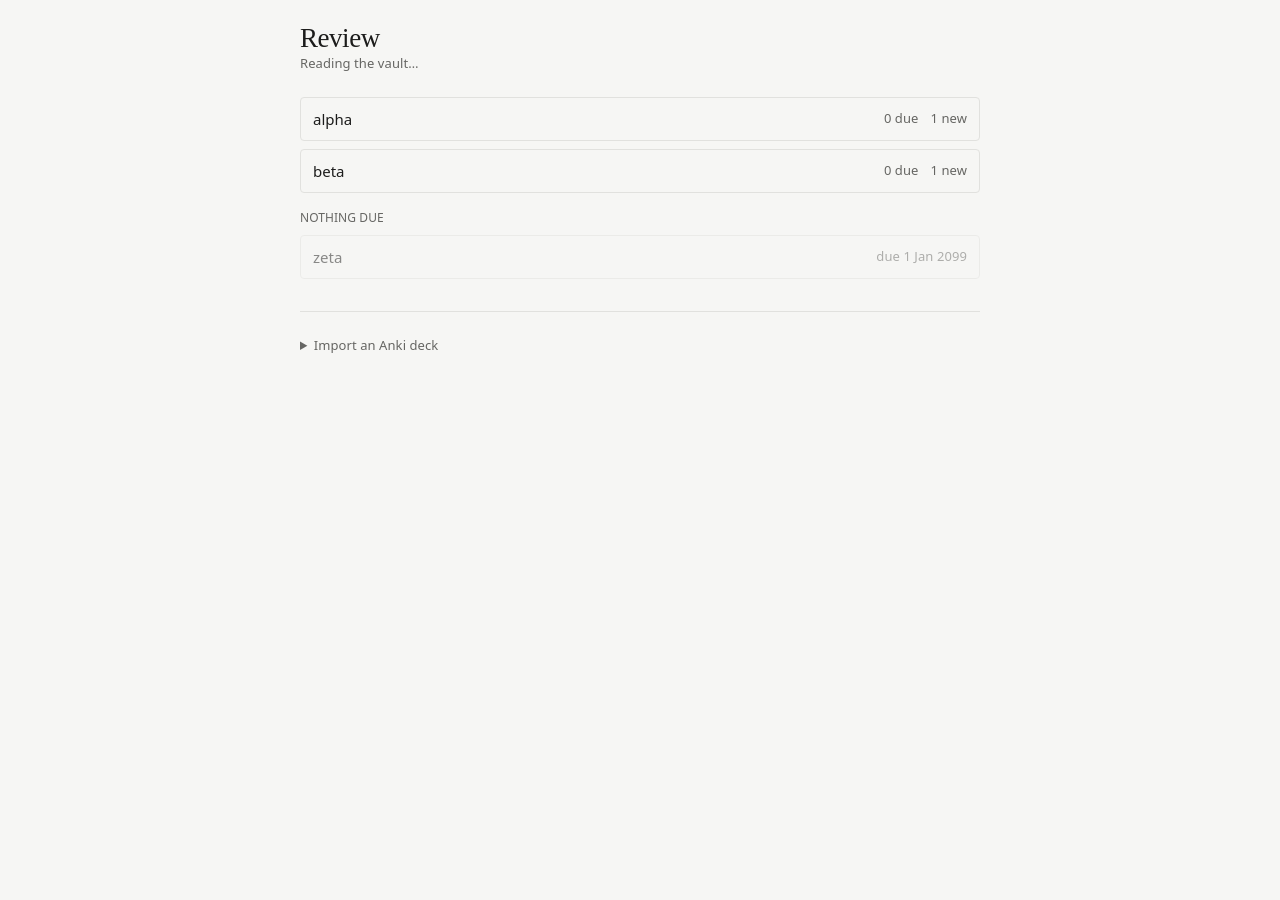
Test: #790 R8 Enter after a click on Park this card reveals the next card and writes nothing more
Check: the button "alpha 0 due 1 new" is shown, box [300, 97, 980, 141]
Step 1. Press j in the element labelled "Review"
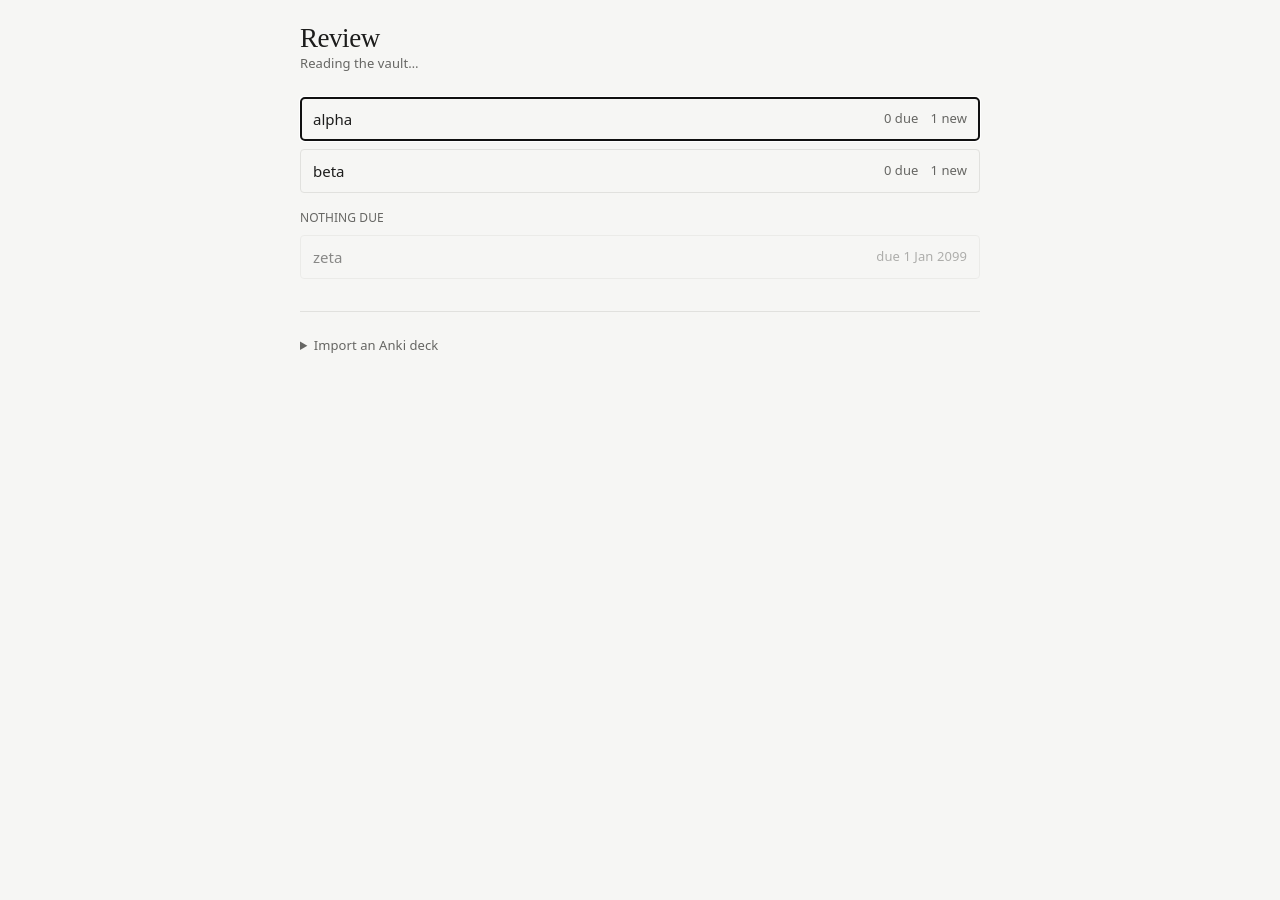
Step 2. Press j in the element labelled "Review"
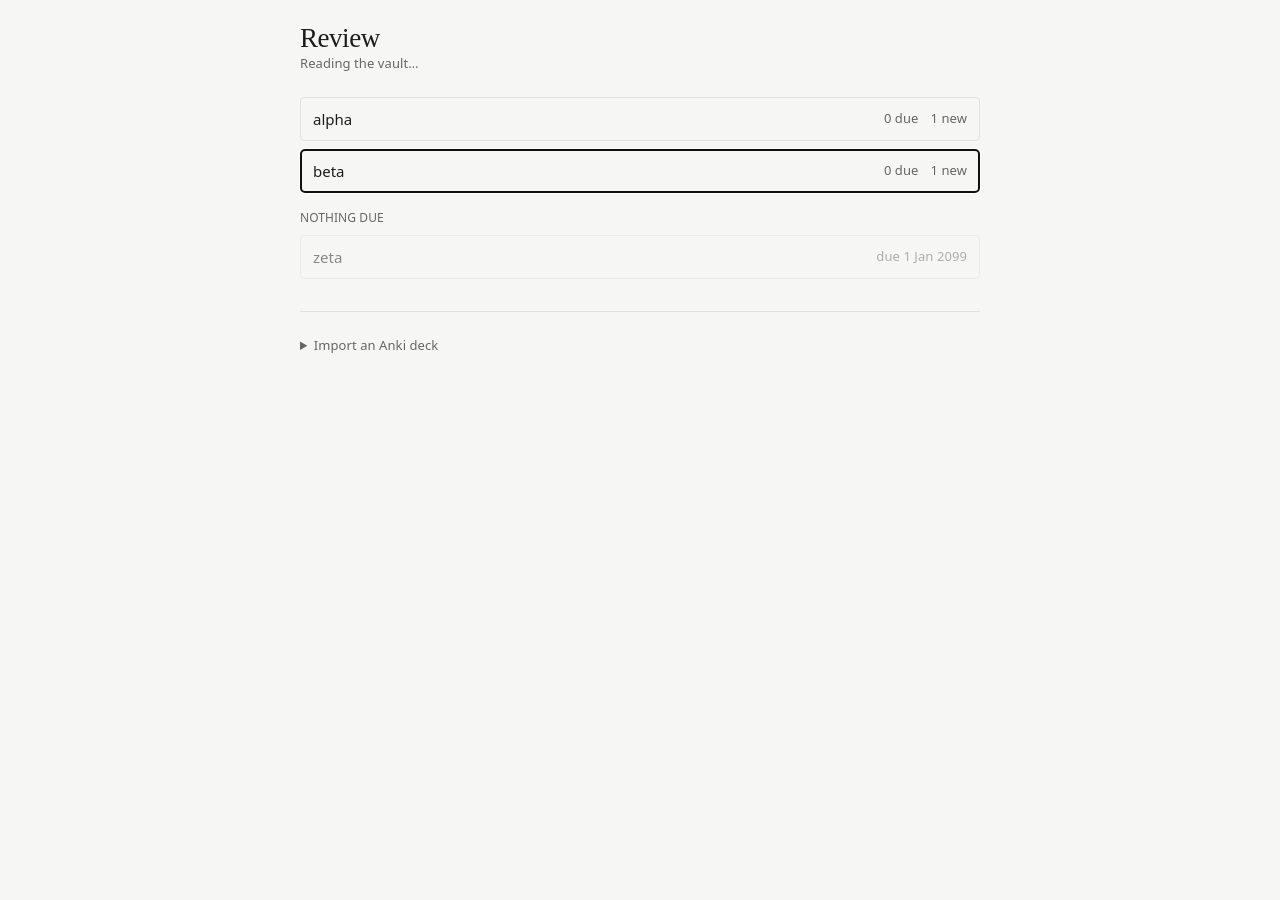
Step 3. Press l in the element labelled "Review"
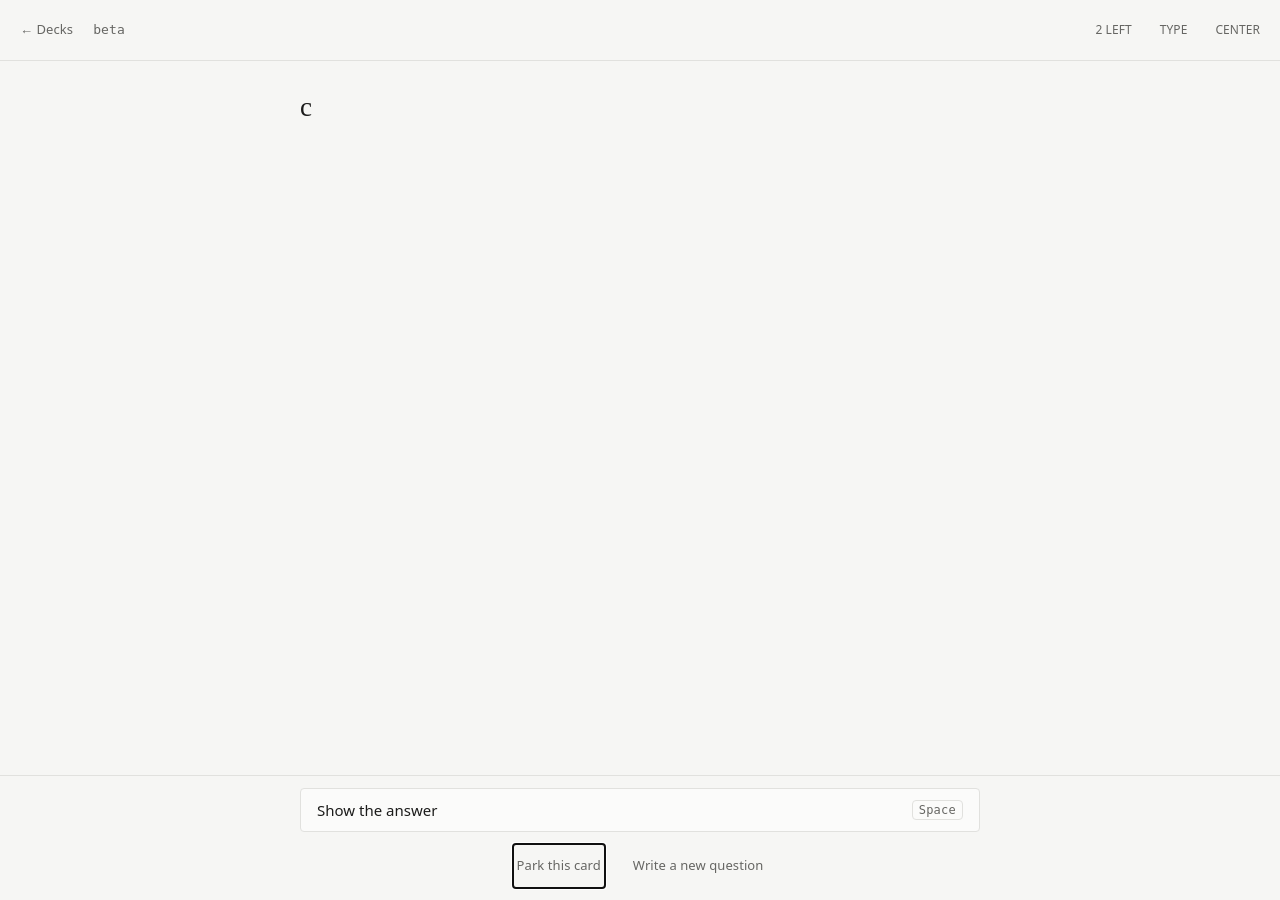
Check: the element with test id "review-card" reads "c", box [300, 92, 312, 122]
Step 4. Click the button "Park this card" → (559, 866), box [513, 844, 605, 888]
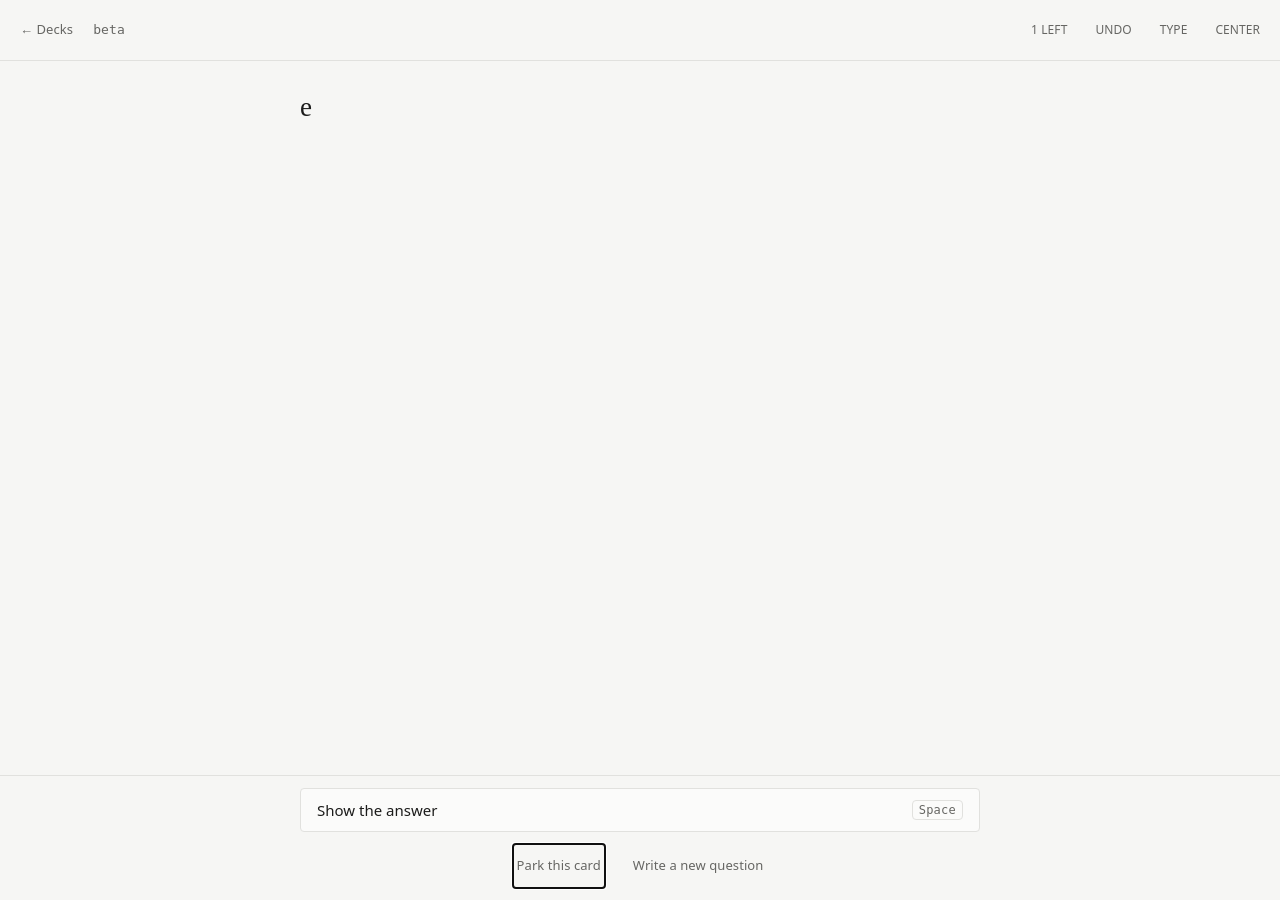
Check: the element with test id "review-card" reads "e", box [300, 92, 312, 122]
Step 5. Press Enter in the button "Park this card", box [513, 844, 605, 888]
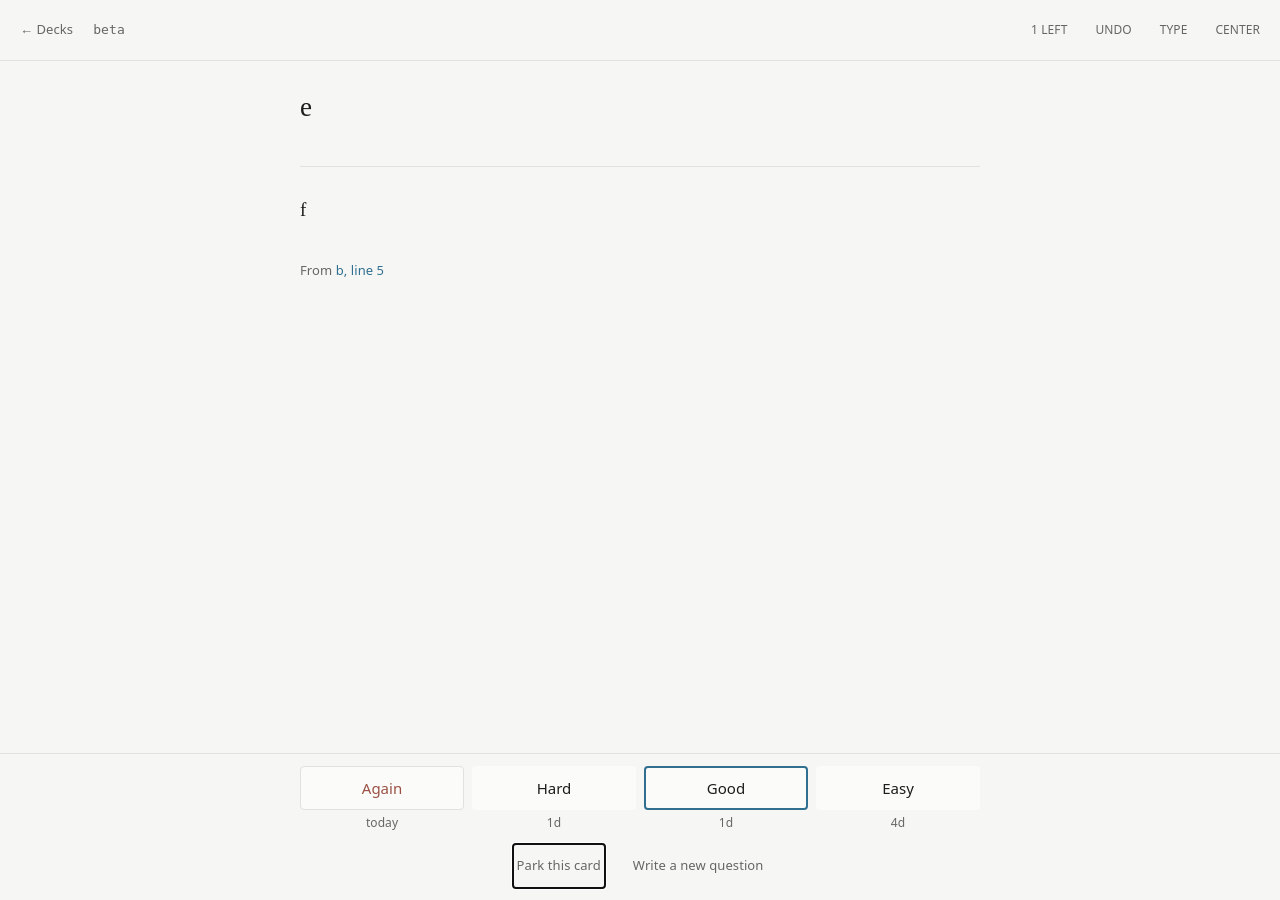
Check: the element with test id "review-back" reads "f", box [300, 199, 306, 220]
